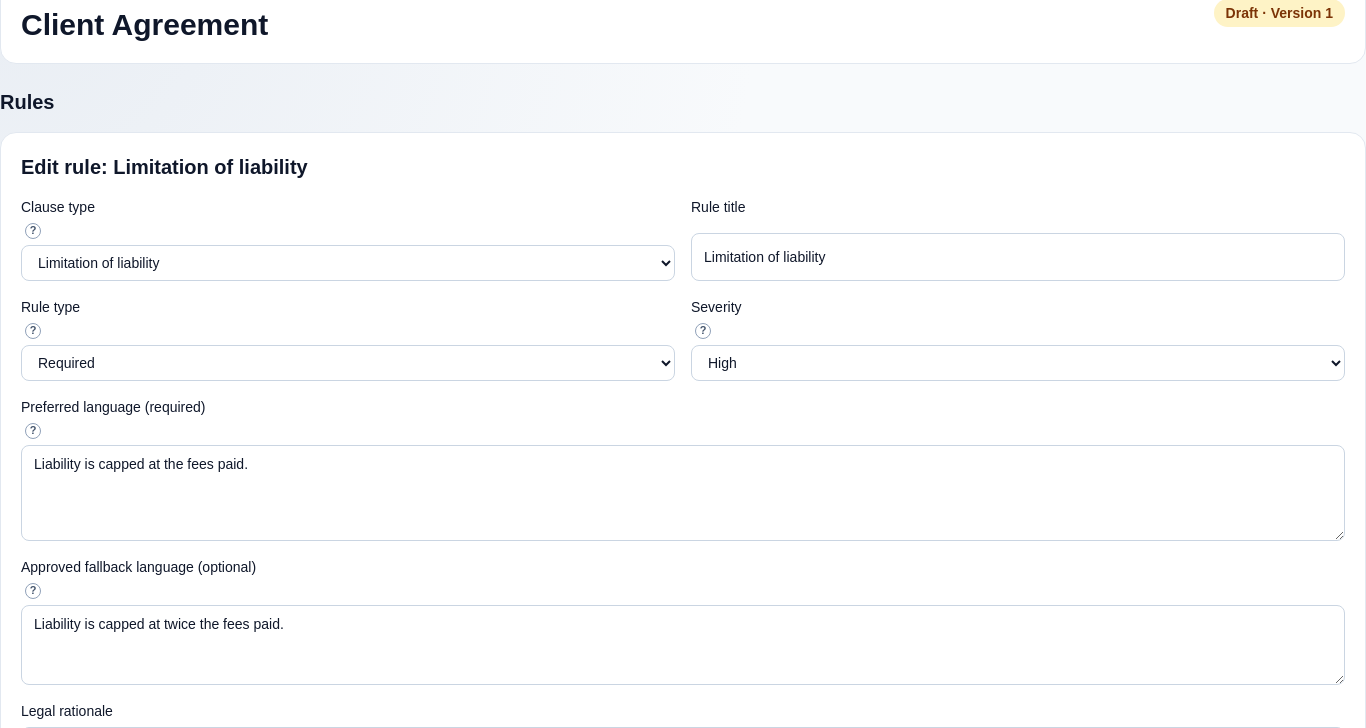
Test: PlaybookEditor › only enables an existing rule save after the rule changes
This screenshot has width=1366, height=728.
Replace the text in the field labelled "Rule title" with "Updated liability cap" at (1018, 257), box x1=691 y1=233 x2=1345 y2=281
(page scrolled)
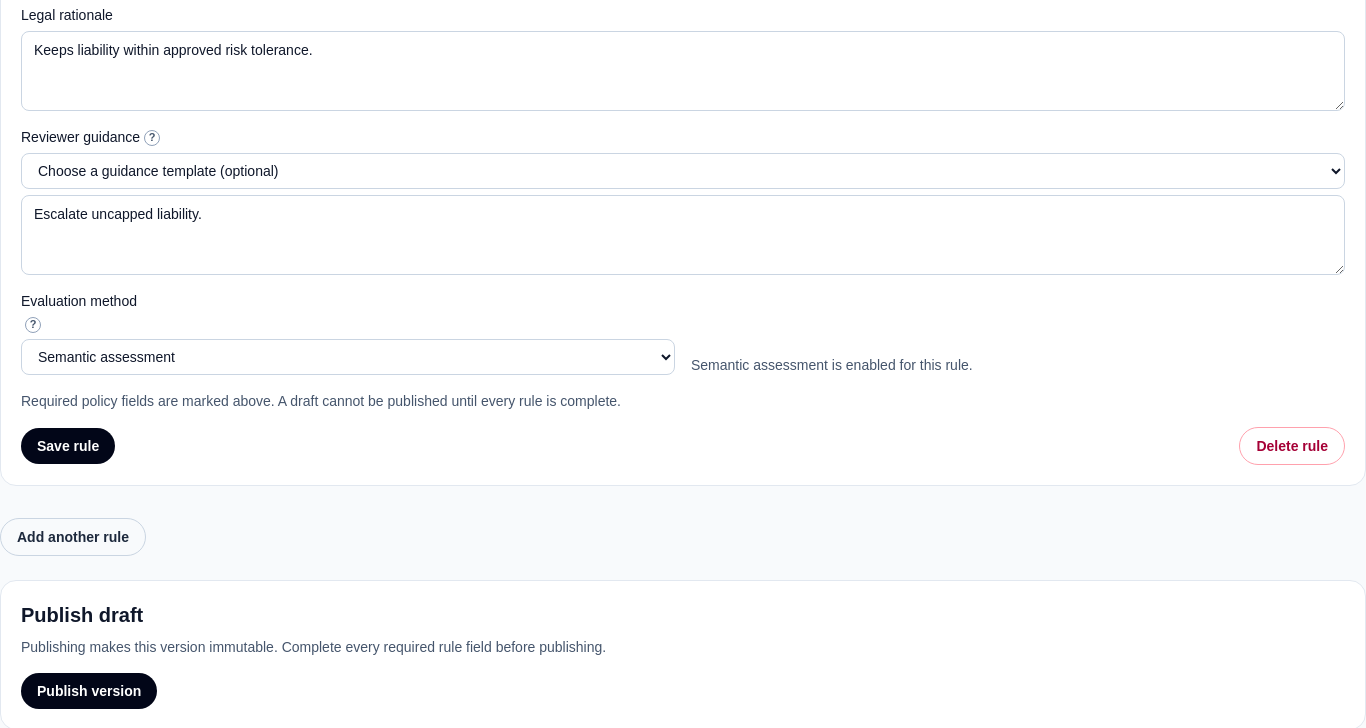
expect the button "Save rule" is enabled: met, box x1=21 y1=428 x2=115 y2=464
